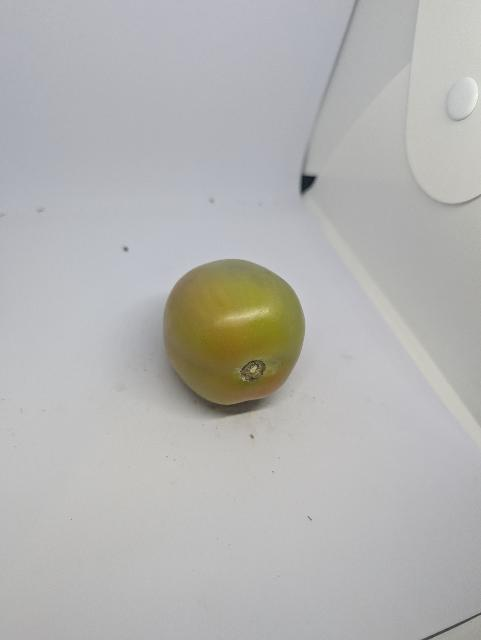breaker: (160, 258, 310, 412)
